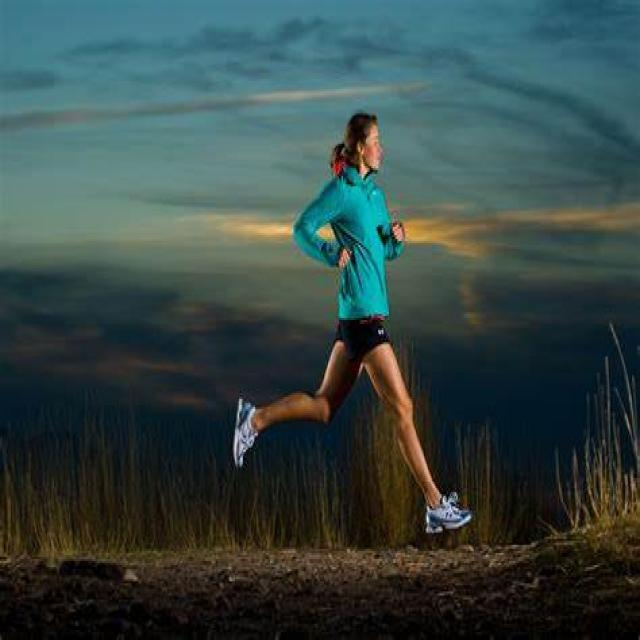stand: (312, 88, 423, 493)
